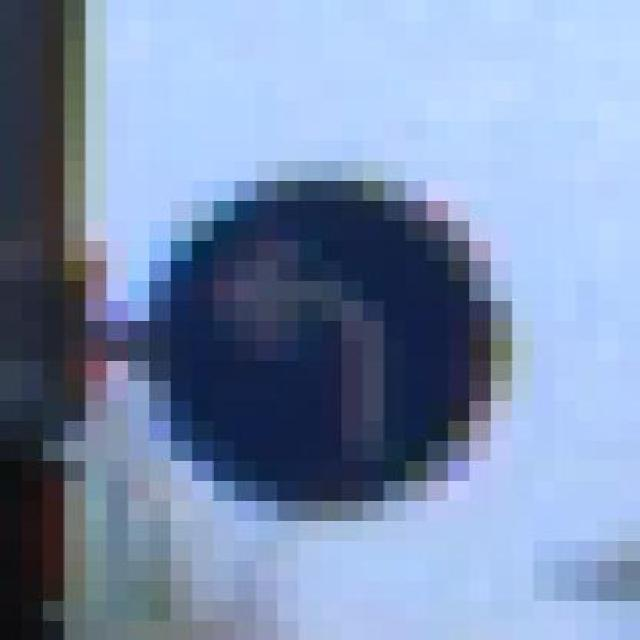Turn left ahead: (128, 140, 534, 540)
